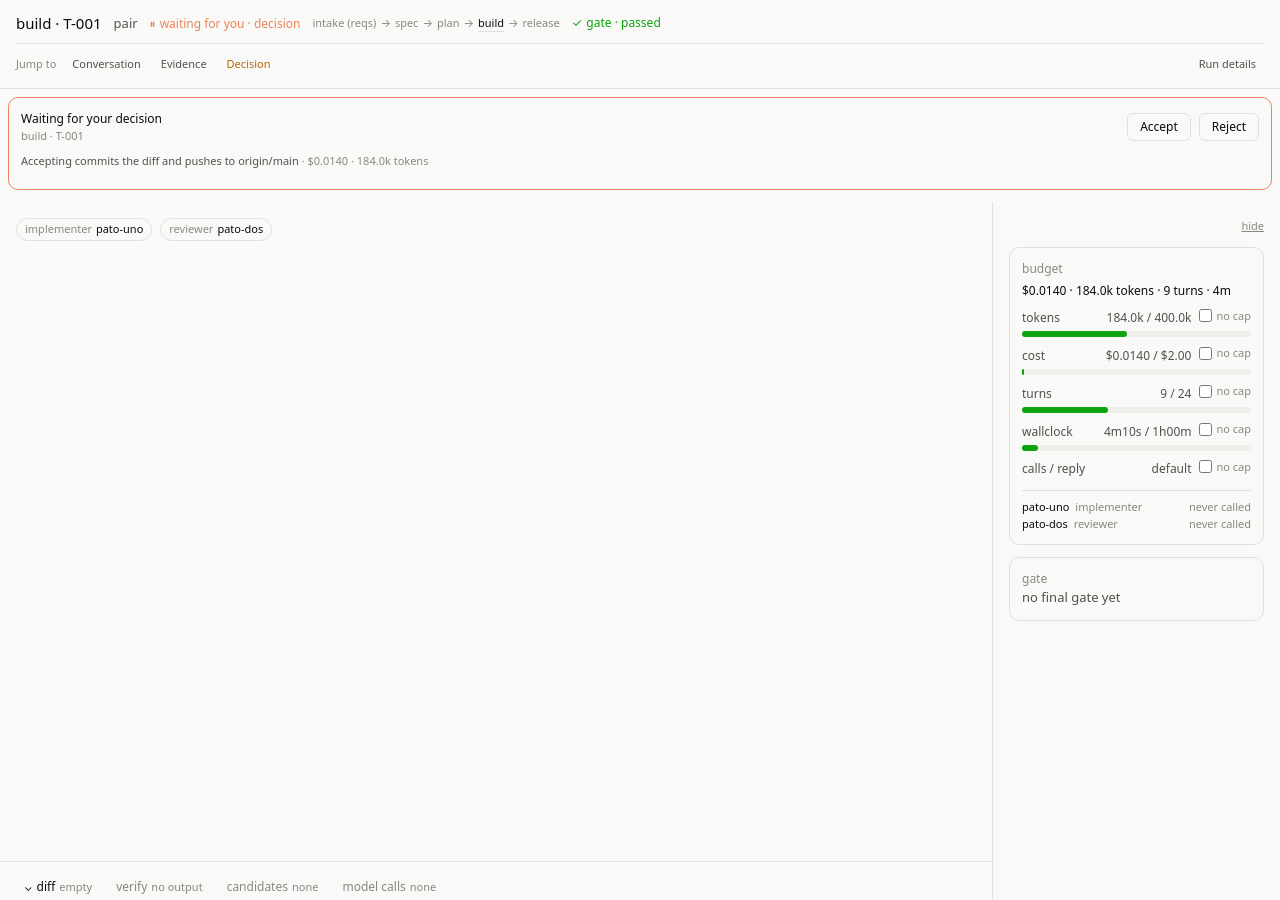
Test: RunView › shows pending during accept and the sha only once confirmed
The width and height of the screenshot is (1280, 900).
Click the button with test id "cycle-accept": (1159, 127) x1=1127 y1=113 x2=1191 y2=141
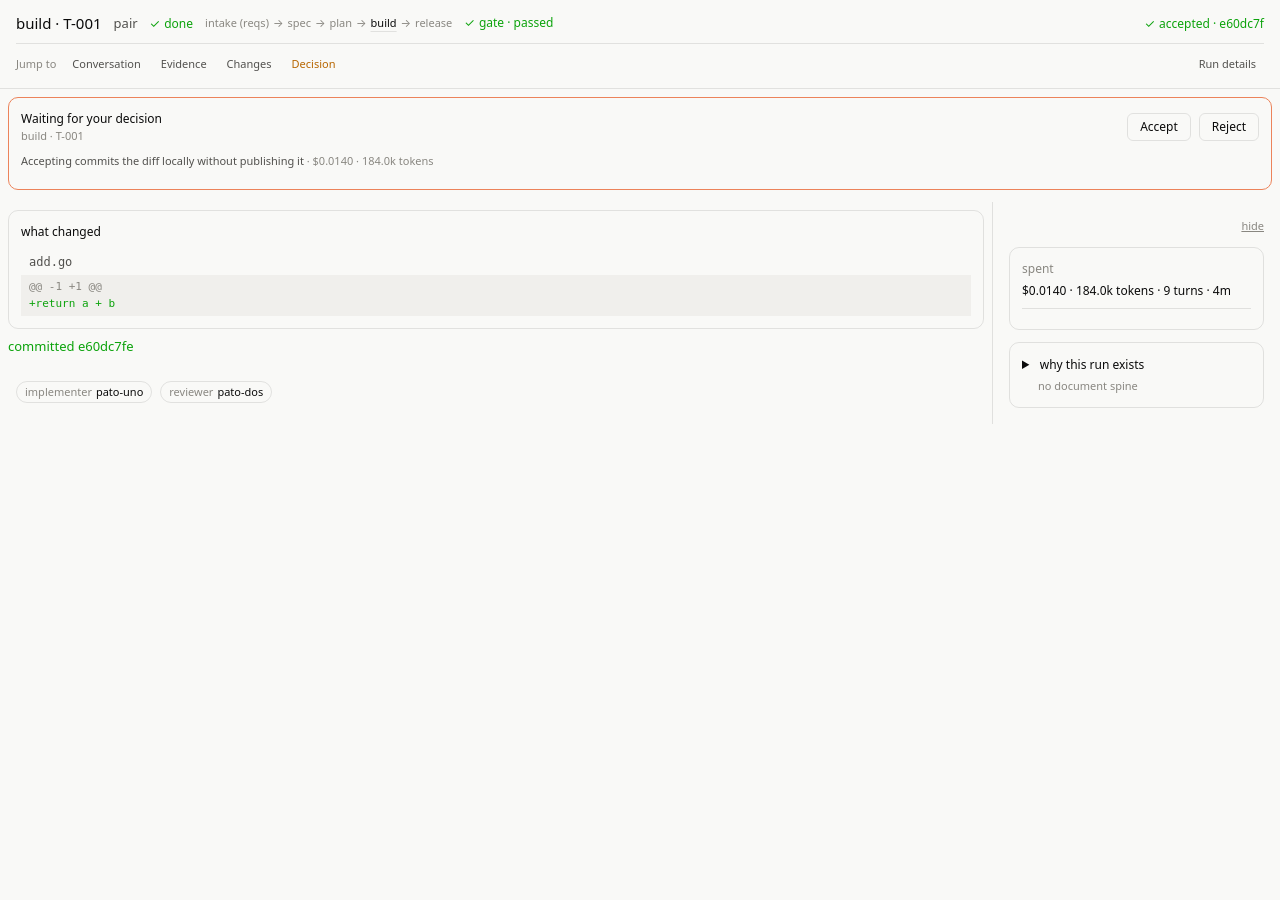
Expected: the text "committed e60dc7fe" is shown, x1=8 y1=337 x2=134 y2=355
Expected: the text with test id "accept-committed" shows "e60dc7fe", x1=78 y1=337 x2=134 y2=355
